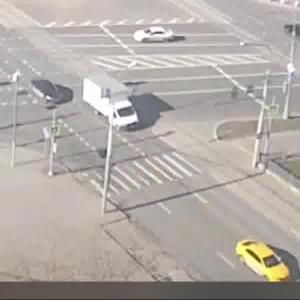car: (85, 77, 148, 132), (234, 241, 287, 287), (133, 24, 181, 50), (32, 78, 68, 105)
